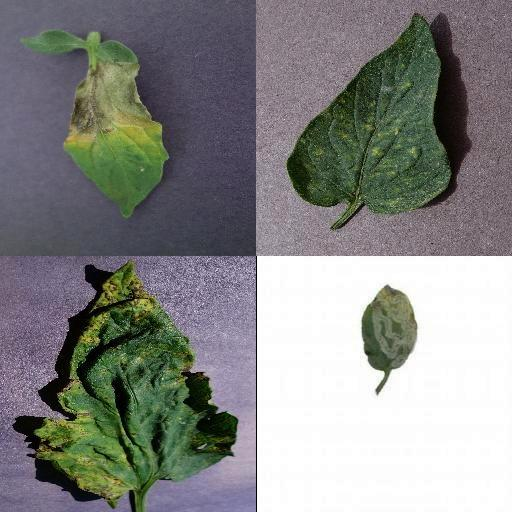Late Blight: (17, 28, 171, 222)
Leaf Miner: (363, 285, 420, 373)
Septoria: (34, 260, 240, 498)
Spider Mites: (287, 11, 451, 215)
